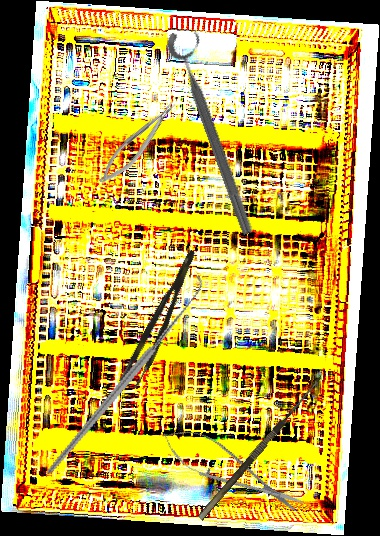Fixation Ring: (163, 24, 271, 238)
Hook Surgical: (1, 274, 246, 475), (189, 368, 326, 521)
Micro Scissor: (153, 416, 312, 526)
Needle Holder: (91, 97, 185, 190)
Tissue Forceps: (118, 248, 208, 391)
